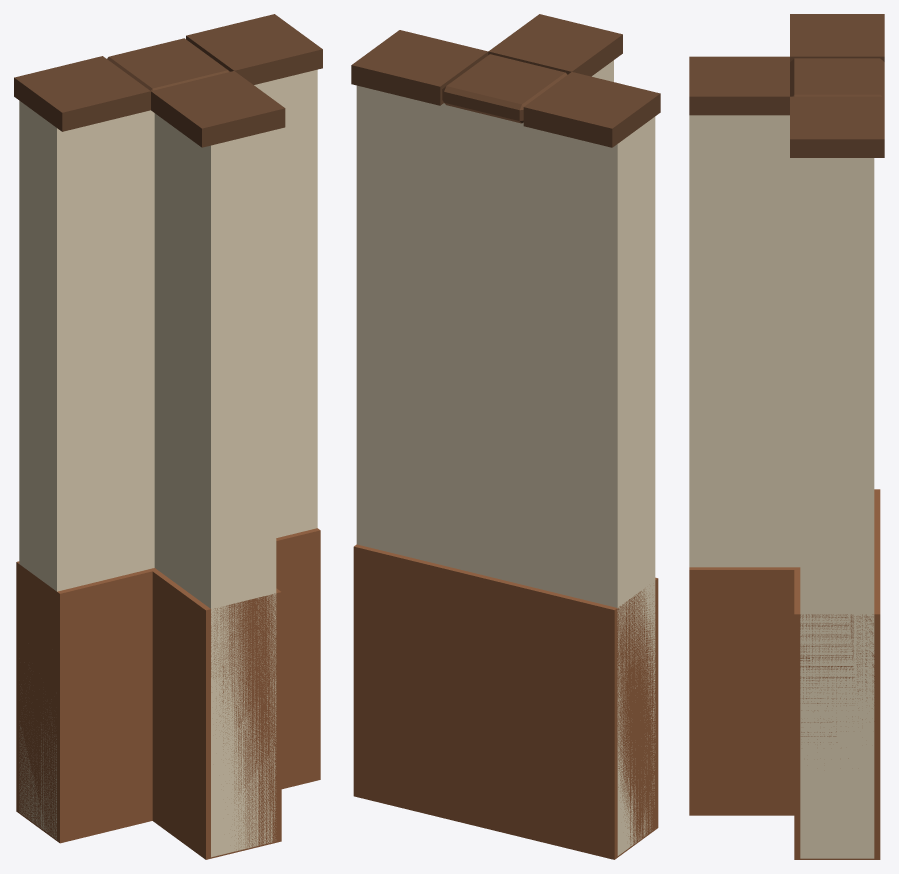
The model's file is wall_t.glb.
3 views of the same model, side by side, from view 1: azimuth 30°, elevation 25°; view 2: azimuth 150°, elevation 25°; view 3: azimuth 270°, elevation 25° (orthographic).
Parts seen in each view (by area): view 1: wall_t; view 2: wall_t; view 3: wall_t.
Boxes of the visible parts, x1=… form: wall_t: x1=14, y1=14, x2=322, y2=859; wall_t: x1=351, y1=14, x2=660, y2=859; wall_t: x1=689, y1=14, x2=884, y2=859.
Bounding box in the file's own units: 1 × 2.69 × 0.66.
